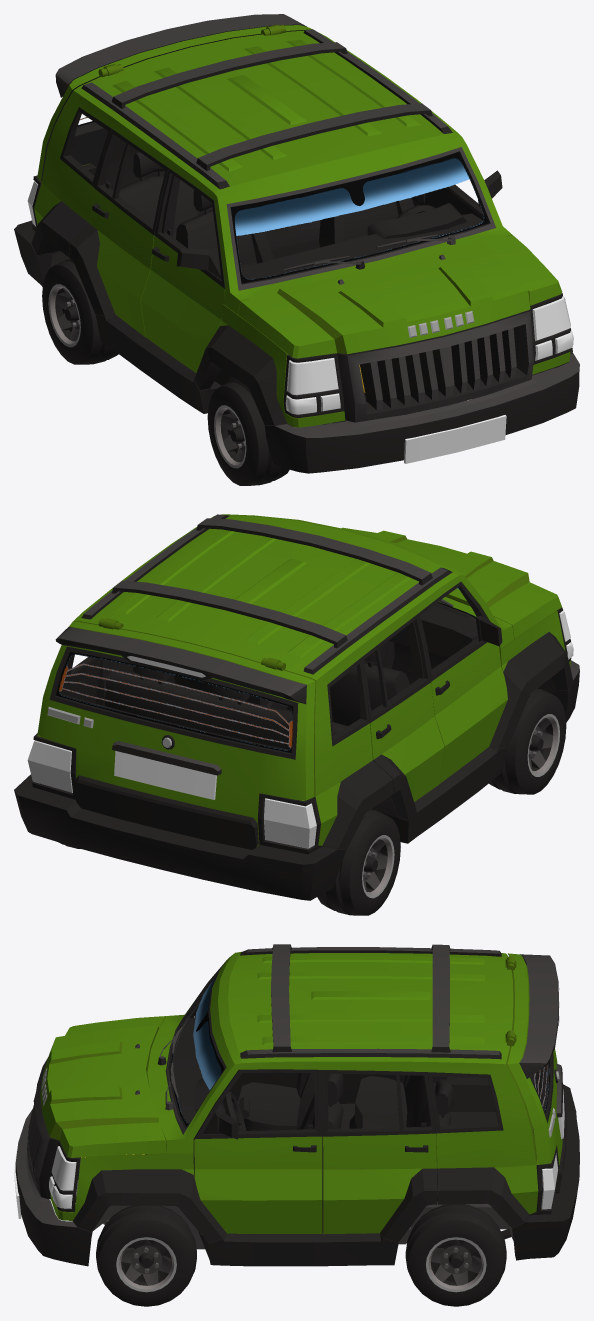
3 views of the same model, one above another, from view 1: azimuth 30°, elevation 25°; view 2: azimuth 150°, elevation 25°; view 3: azimuth 270°, elevation 25° (orthographic). The views are drawn at different scales.
Visible parts, largest first — view 1: Body, Bonet, Bumper_F, Grill_F, Doors_RR, Doors_FR, BootLid, Fender_FR, Wheel_FR, Wheel_RR, Headlight_FR, Headlight_FL (+4 smaller); view 2: Body, BootLid, Bumper_R, Doors_FR, Doors_RR, Bonet, Wheel_RR, Fender_FR, Wheel_FR, Light_RR, Light_RL, Bumper_F (+2 smaller); view 3: Body, Bonet, Doors_FL, Doors_RL, BootLid, Wheel_RL, Wheel_FL, Fender_FL, Bumper_F, Bumper_R, Grill_F, Headlight_FL (+4 smaller).
Boxes of the visible parts, x1=… form: Body: x1=31, y1=24, x2=512, y2=424; Bonet: x1=238, y1=235, x2=562, y2=358; Bumper_F: x1=265, y1=353, x2=579, y2=473; Grill_F: x1=337, y1=310, x2=533, y2=422; Doors_RR: x1=69, y1=129, x2=168, y2=337; Doors_FR: x1=140, y1=168, x2=225, y2=373; BootLid: x1=37, y1=14, x2=311, y2=190; Fender_FR: x1=194, y1=304, x2=345, y2=427; Wheel_FR: x1=207, y1=379, x2=292, y2=485; Wheel_RR: x1=42, y1=259, x2=118, y2=364; Headlight_FR: x1=283, y1=353, x2=344, y2=418; Headlight_FL: x1=530, y1=293, x2=573, y2=364; Body: x1=37, y1=514, x2=514, y2=850; BootLid: x1=37, y1=618, x2=315, y2=849; Bumper_R: x1=14, y1=774, x2=346, y2=900; Doors_FR: x1=418, y1=582, x2=507, y2=783; Doors_RR: x1=361, y1=614, x2=444, y2=820; Bonet: x1=342, y1=527, x2=561, y2=638; Wheel_RR: x1=317, y1=809, x2=400, y2=915; Fender_FR: x1=489, y1=611, x2=572, y2=747; Wheel_FR: x1=489, y1=688, x2=566, y2=794; Light_RR: x1=257, y1=793, x2=320, y2=854; Light_RL: x1=27, y1=733, x2=76, y2=799; Bumper_F: x1=538, y1=660, x2=579, y2=722; Body: x1=72, y1=944, x2=551, y2=1266; Bonet: x1=40, y1=1016, x2=167, y2=1157; Doors_FL: x1=194, y1=1069, x2=322, y2=1233; Doors_RL: x1=322, y1=1070, x2=436, y2=1242; BootLid: x1=505, y1=953, x2=566, y2=1193; Wheel_RL: x1=405, y1=1204, x2=506, y2=1306; Wheel_FL: x1=96, y1=1205, x2=196, y2=1306; Fender_FL: x1=50, y1=1153, x2=226, y2=1242; Bumper_F: x1=14, y1=1109, x2=92, y2=1266; Bumper_R: x1=512, y1=1084, x2=579, y2=1260; Grill_F: x1=27, y1=1057, x2=59, y2=1199; Headlight_FL: x1=49, y1=1141, x2=80, y2=1212.
Bounding box in the file's own units: 129 × 102 × 208.
Materials: 4 (3 with a texture image).
